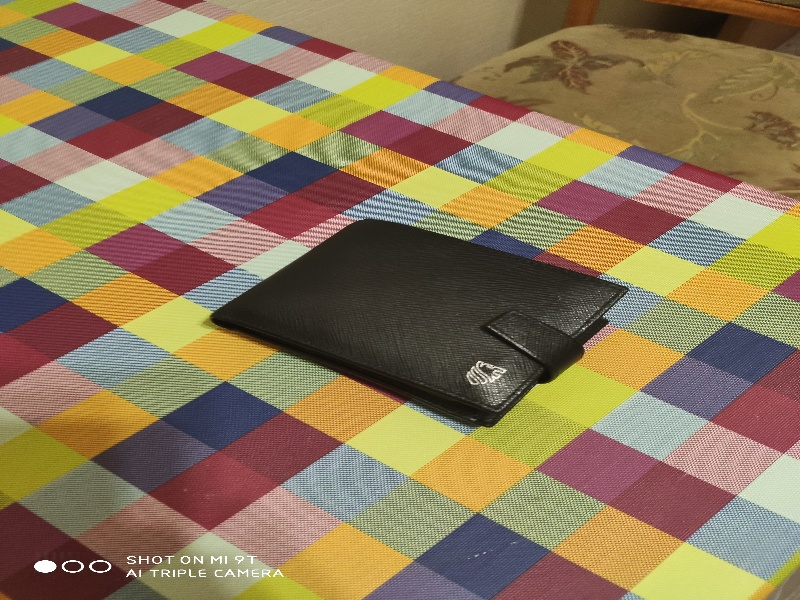wallet: (205, 211, 631, 428)
